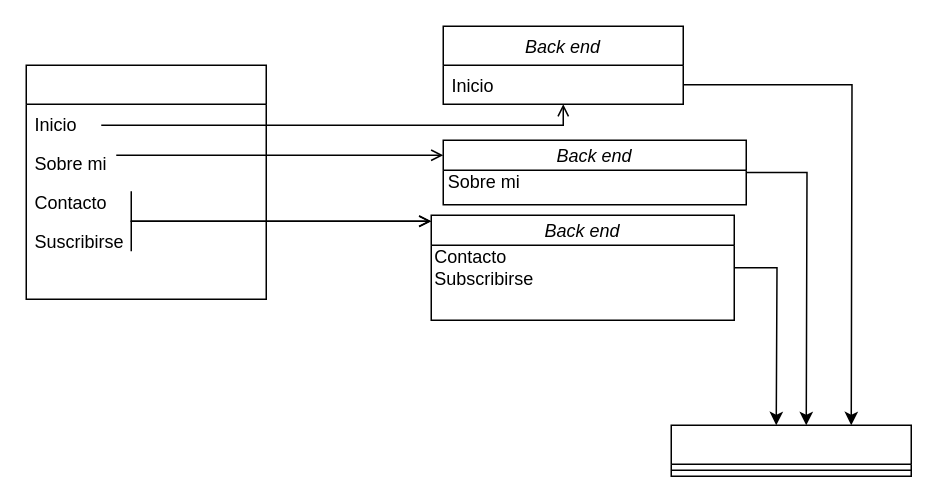
Image size: 938x503. Some labels were removed from this diagram. The shapes that lost their labels are listed below. From the top down, each one's box as (x1, y1, x2, y2) in pixels, then its label:
(25, 64, 266, 299): Front end
(670, 424, 911, 476): DB Server
